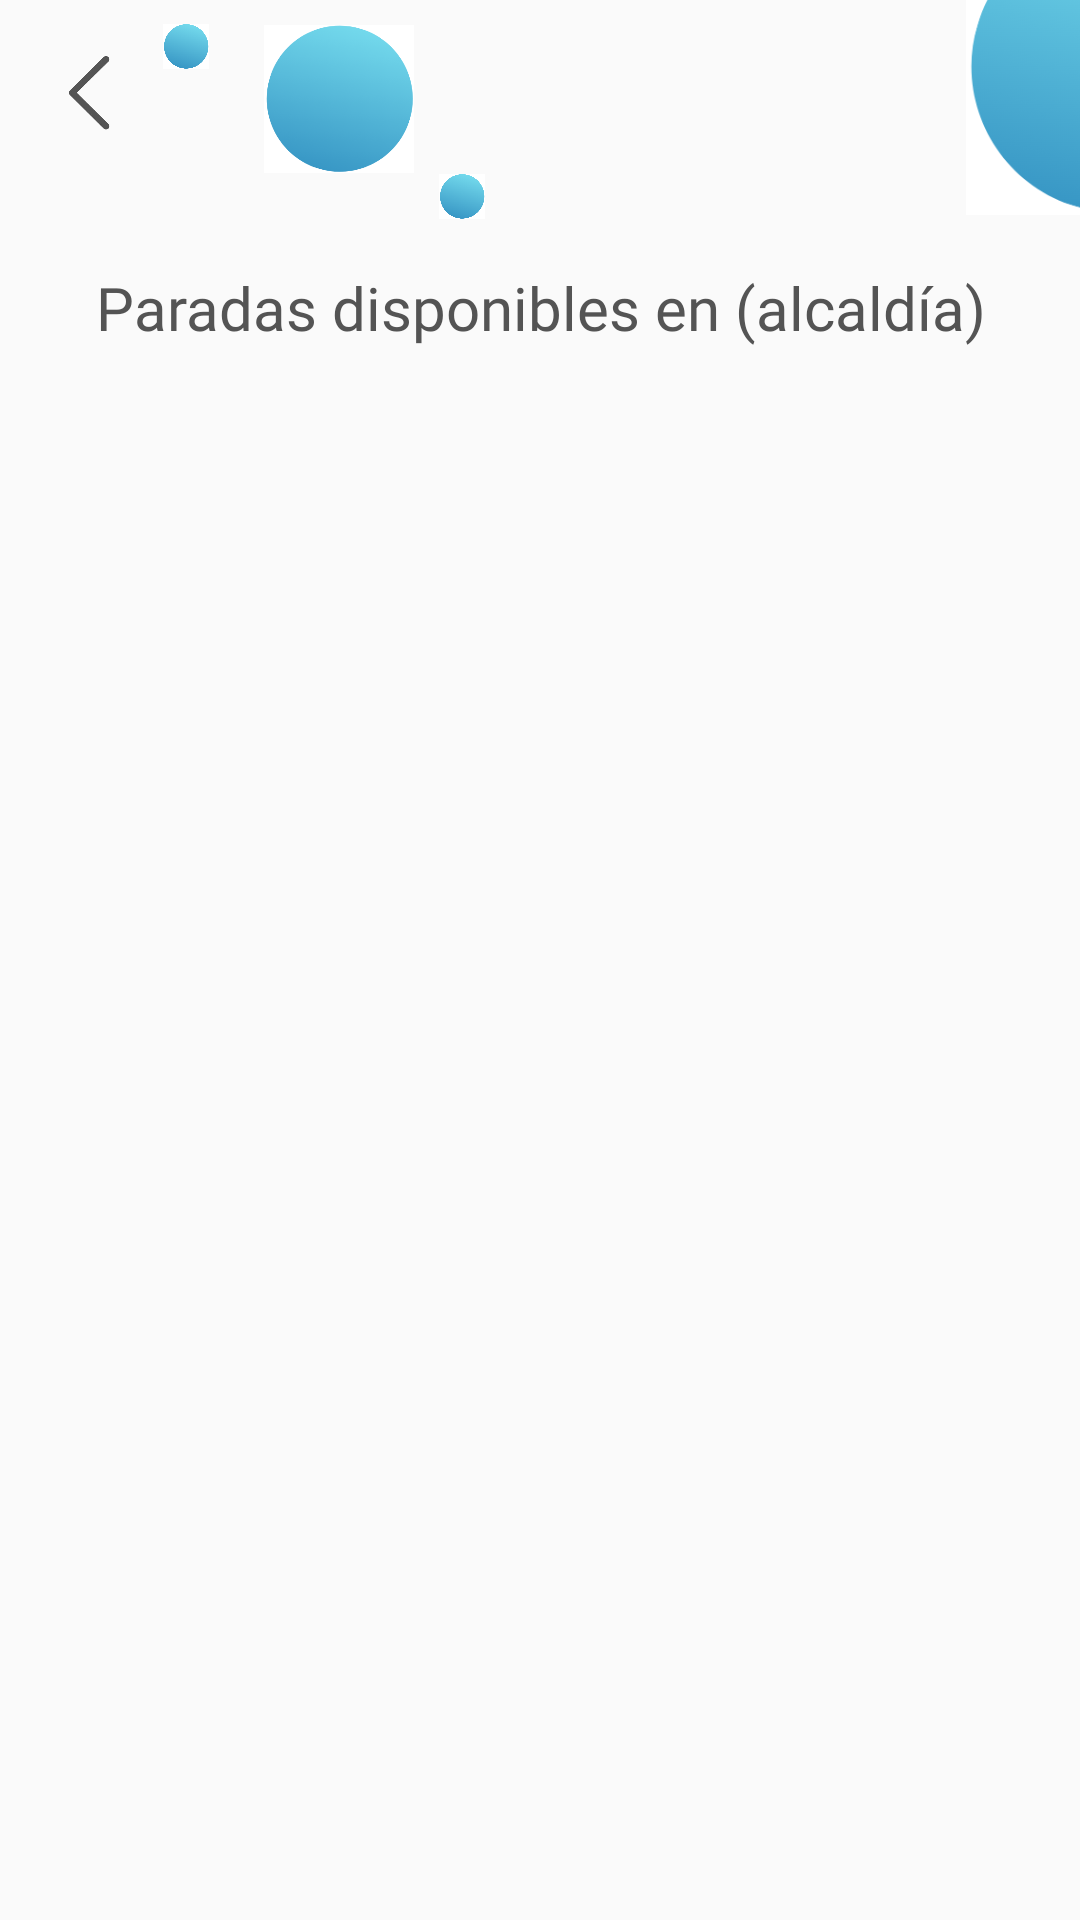

Where to tap for icons on this 1080px×1920px app screen, as (x,y):
back arrow: (89,93)
